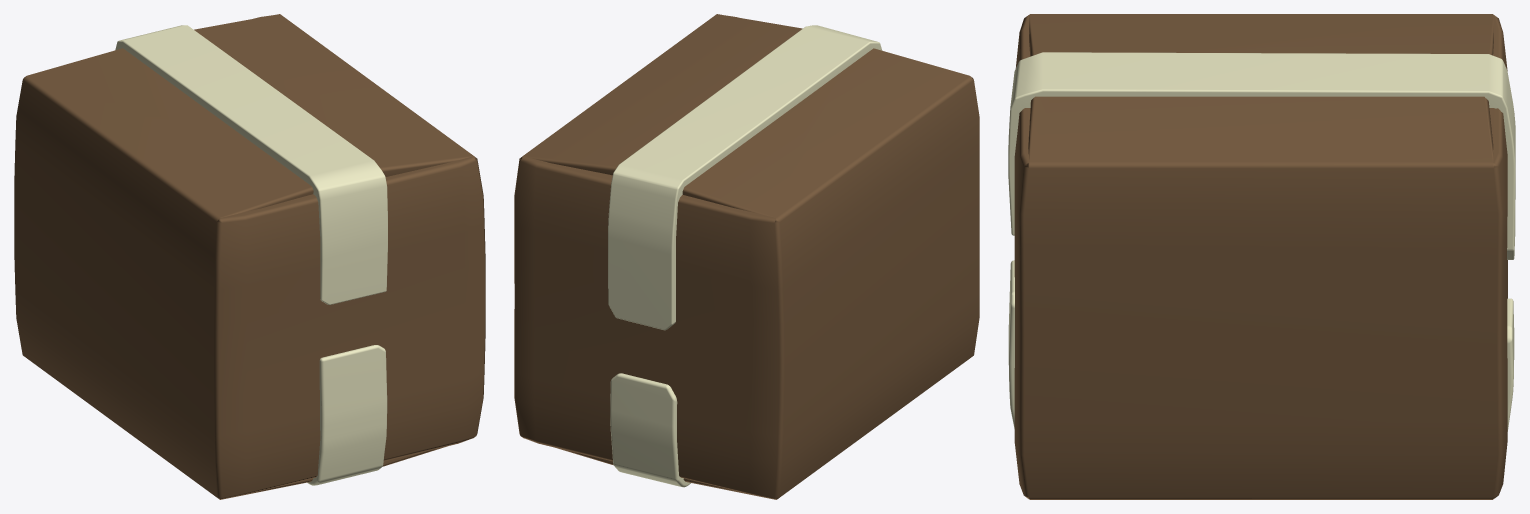
Rendered from SM_Cardboard_02.fbx.
3 renders of one model, left to right at view 1: azimuth 30°, elevation 25°; view 2: azimuth 150°, elevation 25°; view 3: azimuth 270°, elevation 25°, orthographic. The views are drawn at different scales.
Parts seen in each view (by area): view 1: Cube.003, Cube.005, Cube.004; view 2: Cube.003, Cube.005, Cube.004; view 3: Cube.003, Cube.005, Cube.004.
Boxes of the visible parts, box(x1,y1,x2,y2) form: Cube.003: box(14, 14, 485, 499); Cube.005: box(115, 25, 387, 304); Cube.004: box(307, 345, 387, 485); Cube.003: box(514, 14, 979, 499); Cube.005: box(608, 25, 882, 330); Cube.004: box(610, 373, 690, 487); Cube.003: box(1014, 14, 1507, 499); Cube.005: box(1008, 52, 1515, 259); Cube.004: box(1008, 260, 1514, 431).
Size of the model in its own units: 65.91 by 71.41 by 88.46.
